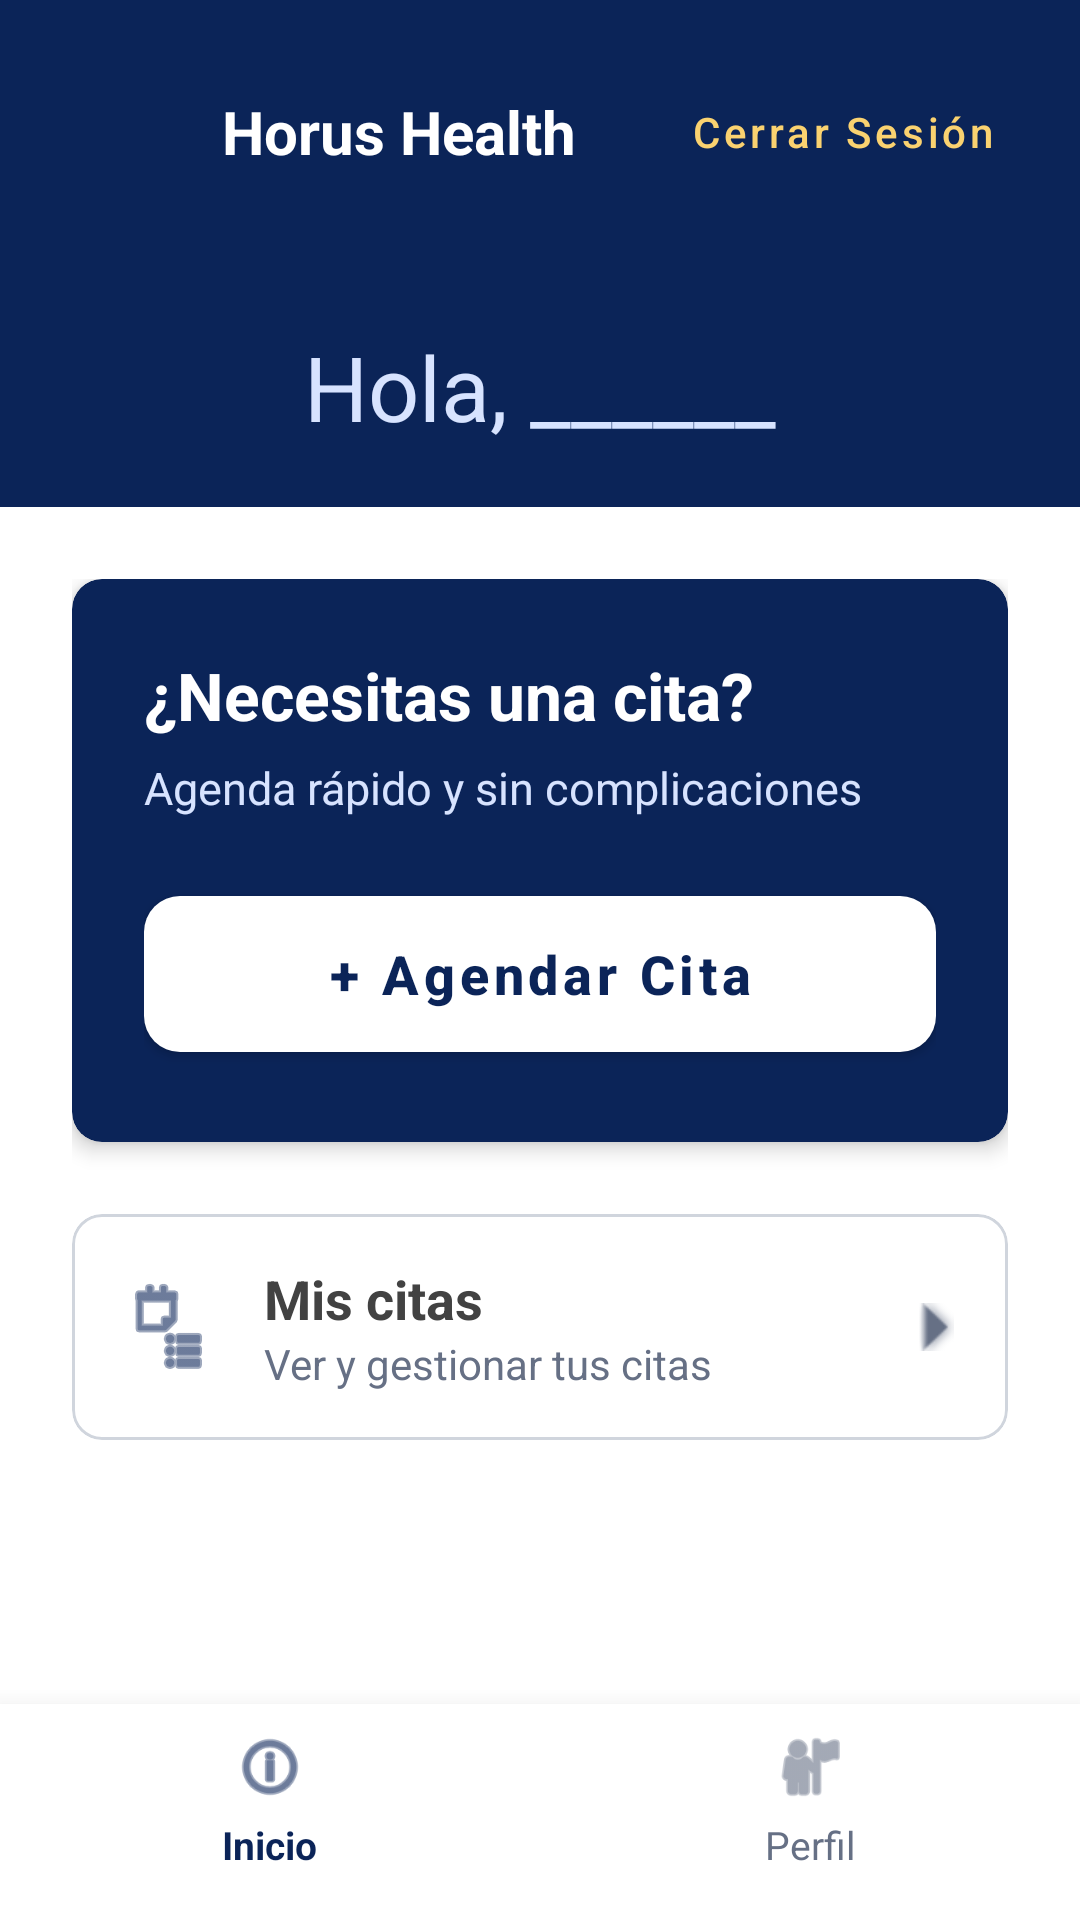

Icon click points for this 1080 × 1920 phone screenshot, format point (x, y):
agenda: point (168, 1326)
info details: point (270, 1767)
myplaces: point (811, 1767)
